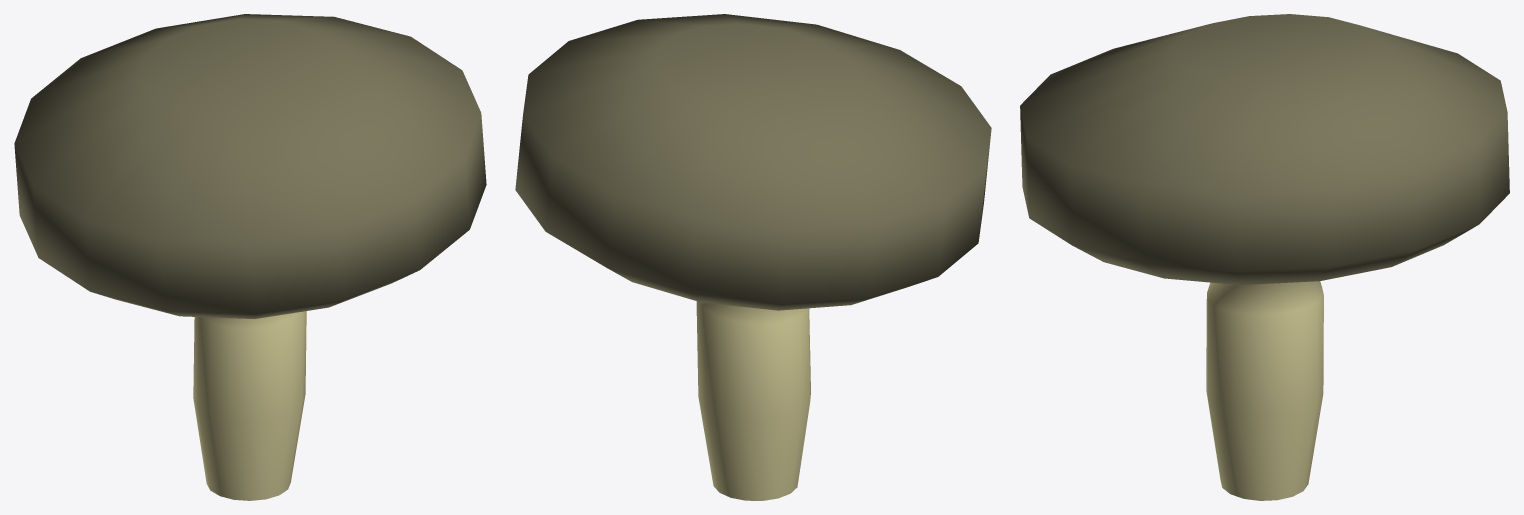
File: mushrooms02.fbx
3 views of the same model, side by side, from view 1: azimuth 30°, elevation 25°; view 2: azimuth 150°, elevation 25°; view 3: azimuth 270°, elevation 25° (orthographic). The views are drawn at different scales.
Parts seen in each view (by area): view 1: Cylinder.014; view 2: Cylinder.014; view 3: Cylinder.014.
Boxes of the visible parts, x1,y1,x2,y2 form: Cylinder.014: [14, 14, 486, 500]; Cylinder.014: [515, 14, 991, 500]; Cylinder.014: [1020, 14, 1509, 500].
Size of the model in its own units: 37.36 by 36.96 by 37.18.
